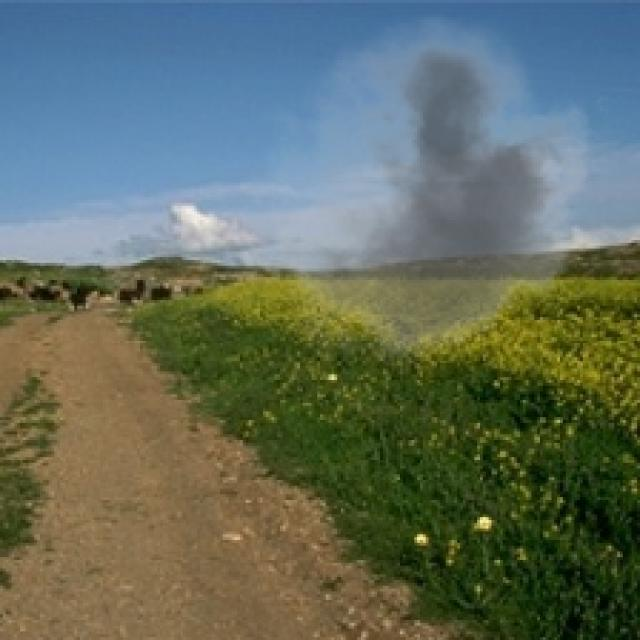smoke: (237, 14, 609, 377)
